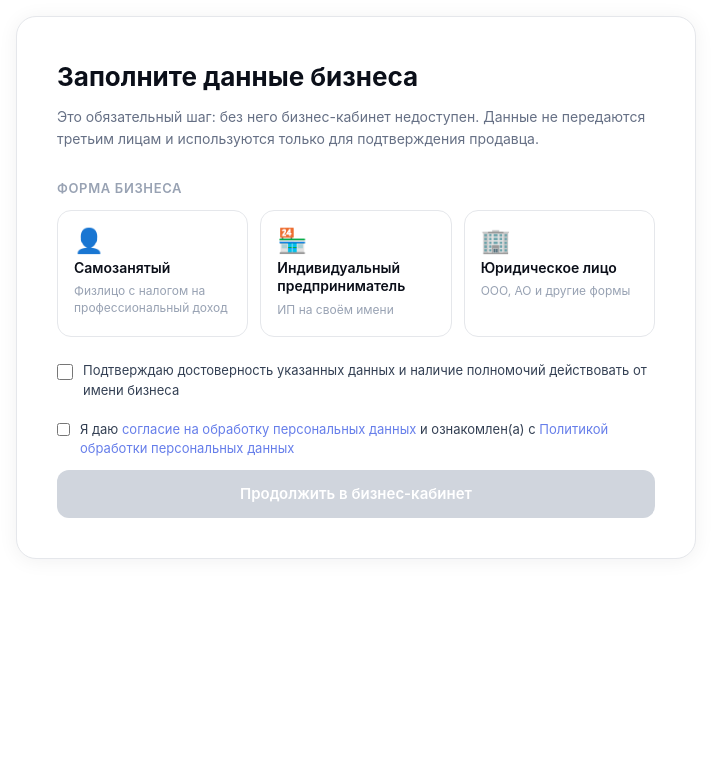
Test case: BusinessOnboardingPage › self_employed shows only its fields and hides legal entity fields
Click the radio button labelled "👤 Самозанятый Физлицо с налогом на профессиональный доход" at x=153, y=274, box x1=57 y1=210 x2=248 y2=338
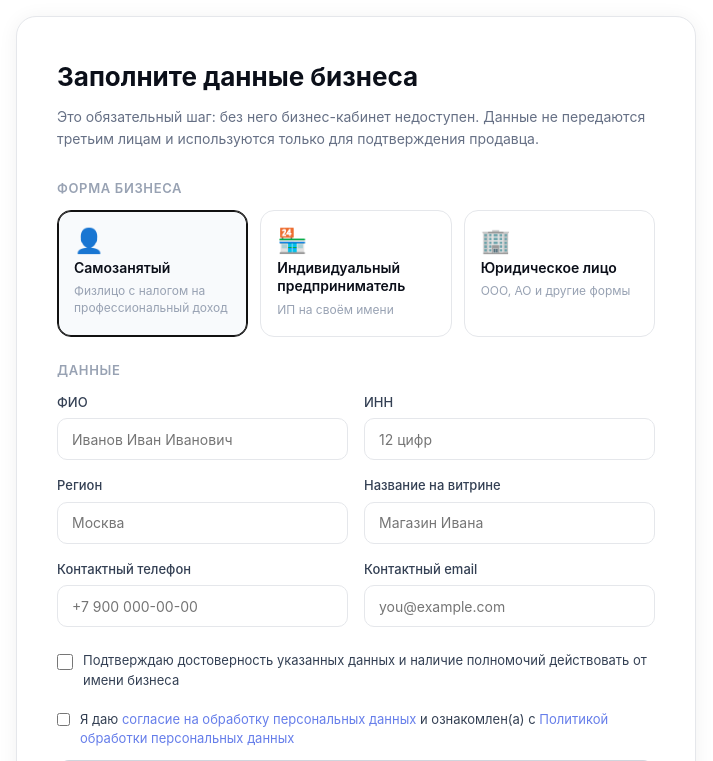
Expected: the field labelled "ФИО" is shown, x1=57 y1=418 x2=348 y2=460
Expected: the field labelled "ИНН" is shown, x1=364 y1=418 x2=655 y2=460
Expected: the field labelled "Регион" is shown, x1=57 y1=502 x2=348 y2=544
